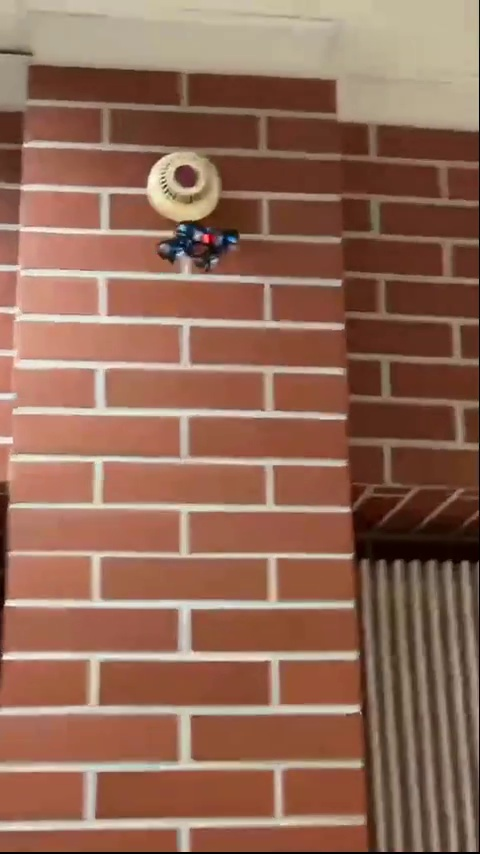drone: (159, 220, 249, 265)
